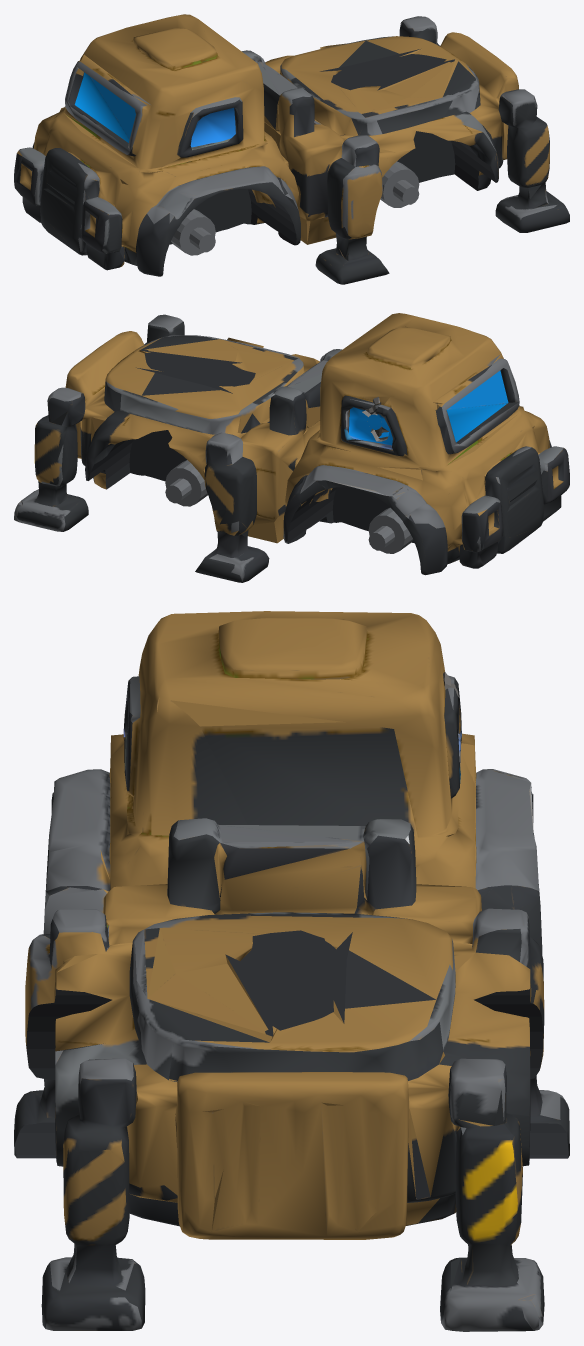
Rendered from OZ_CRANE_Wreck_V3.glb.
3 views of the same model, one above another, from view 1: azimuth 30°, elevation 25°; view 2: azimuth 150°, elevation 25°; view 3: azimuth 270°, elevation 25° (orthographic). The views are drawn at different scales.
Parts seen in each view (by area): view 1: Crane_Chassis_Wreck_V3; view 2: Crane_Chassis_Wreck_V3; view 3: Crane_Chassis_Wreck_V3.
Part boxes in pixels (x1,y1,x2,y2): Crane_Chassis_Wreck_V3: (14,14,569,284); Crane_Chassis_Wreck_V3: (14,313,569,582); Crane_Chassis_Wreck_V3: (14,611,569,1331).
Bounding box in the file's own units: 1.69 × 0.7592 × 0.9749.
3 materials, 1 textured.
